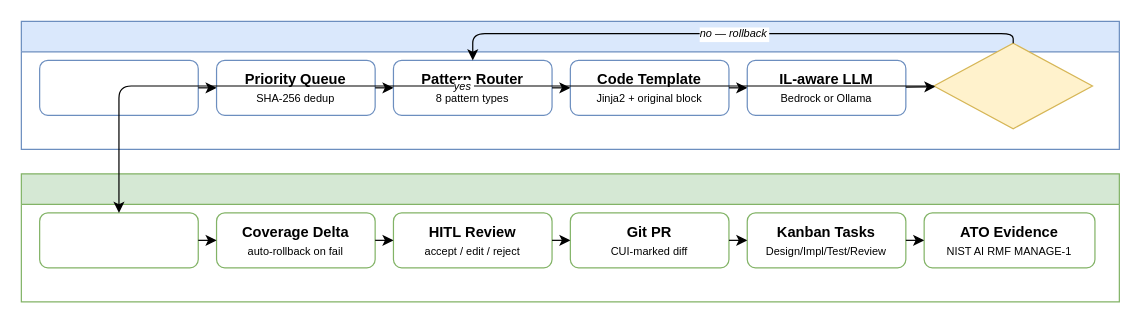
This 1141x323 diagram has some shape labels left out. Each missing label, with the box of its shape:
AI-ify Scan composite ≥ 0.70: (38, 59, 198, 115)
Detect and Synthesize: (20, 20, 1119, 149)
Test Suite existing + generated: (38, 212, 198, 268)
Tests Pass?: (933, 42, 1093, 129)
Validate and Ship: (20, 173, 1119, 302)
